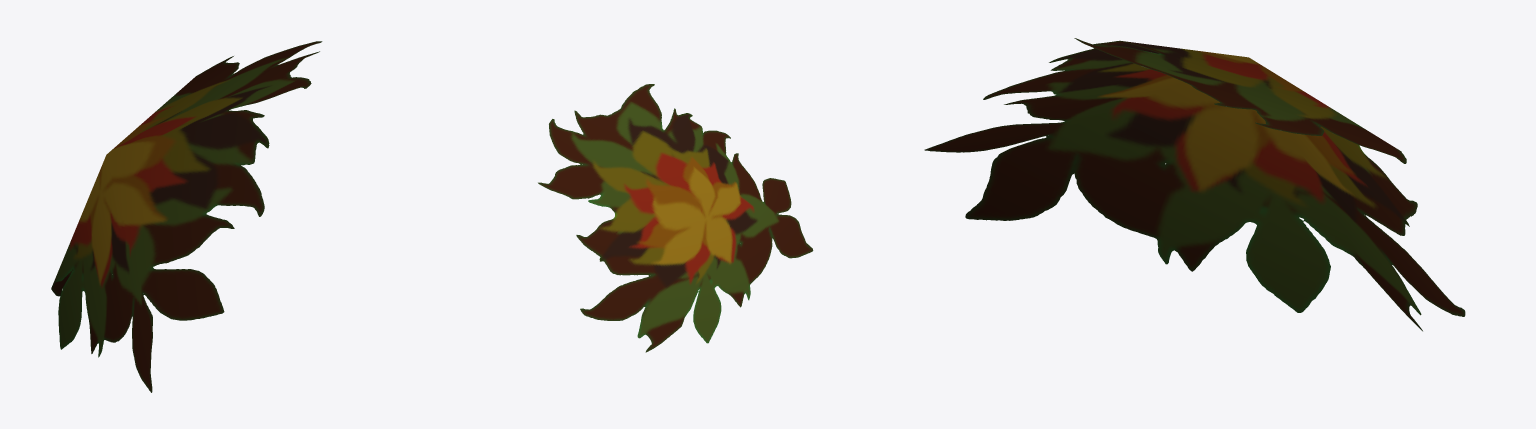
3 views of the same model, side by side, from view 1: azimuth 30°, elevation 25°; view 2: azimuth 150°, elevation 25°; view 3: azimuth 270°, elevation 25° (orthographic). The views are drawn at different scales.
Parts seen in each view (by area): view 1: Plane1064; view 2: Plane1064; view 3: Plane1064.
Part boxes in pixels (bbox=[...]): Plane1064: bbox=[51, 41, 322, 392]; Plane1064: bbox=[538, 84, 813, 352]; Plane1064: bbox=[924, 38, 1465, 331].
Bounding box in the file's own units: 0.2636 × 0.3065 × 0.3308.
